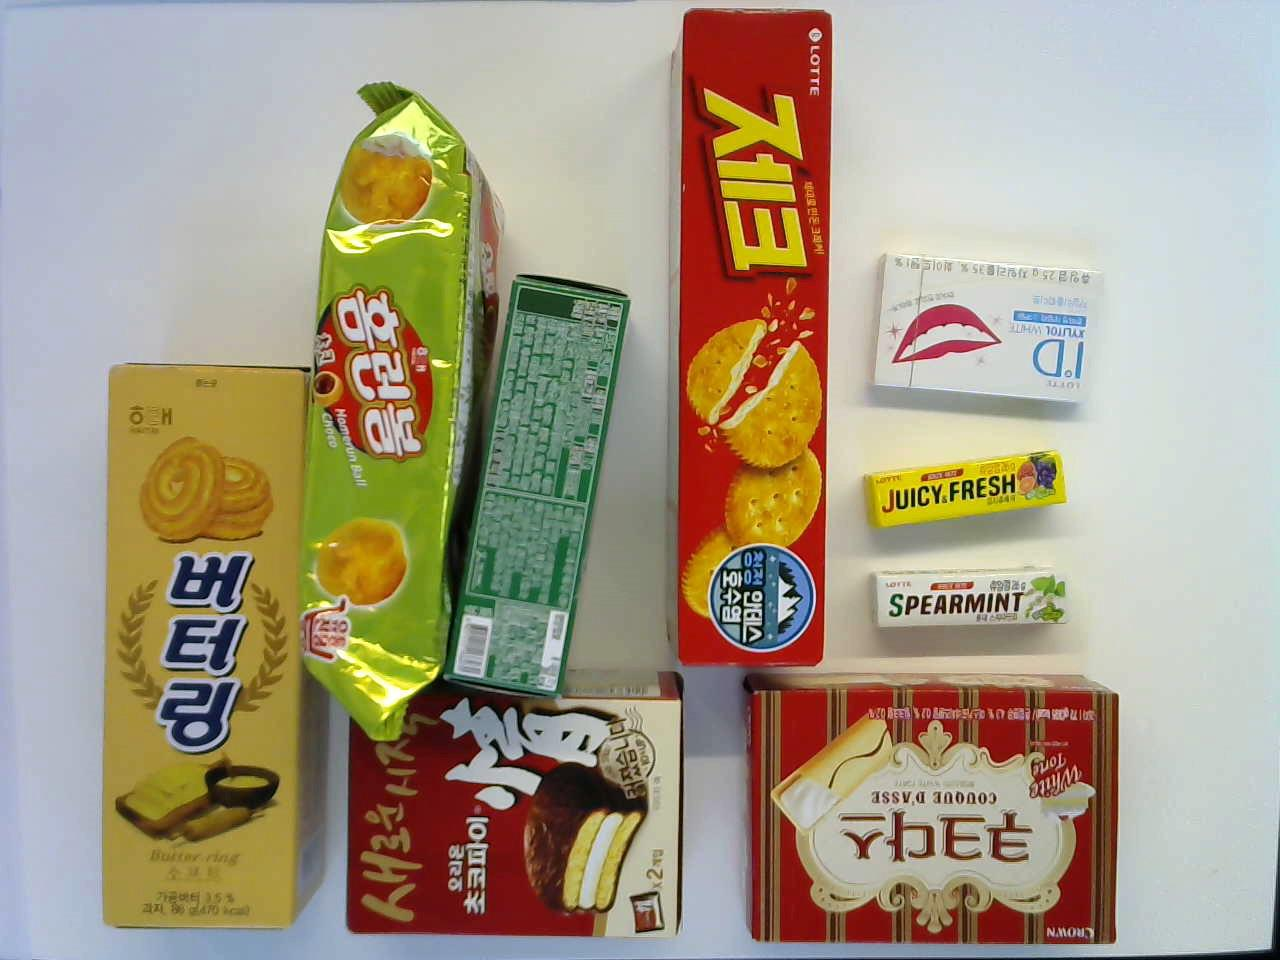ID_gum: (863, 252, 1106, 409)
buttering: (102, 353, 330, 922)
chocopie: (344, 671, 685, 939)
couque_coffee: (437, 274, 636, 701)
couque_white: (742, 668, 1130, 948)
homerunball: (303, 112, 492, 724)
juicyfresh: (861, 445, 1076, 544)
spearmint: (860, 554, 1080, 634)
zec: (661, 7, 834, 669)
